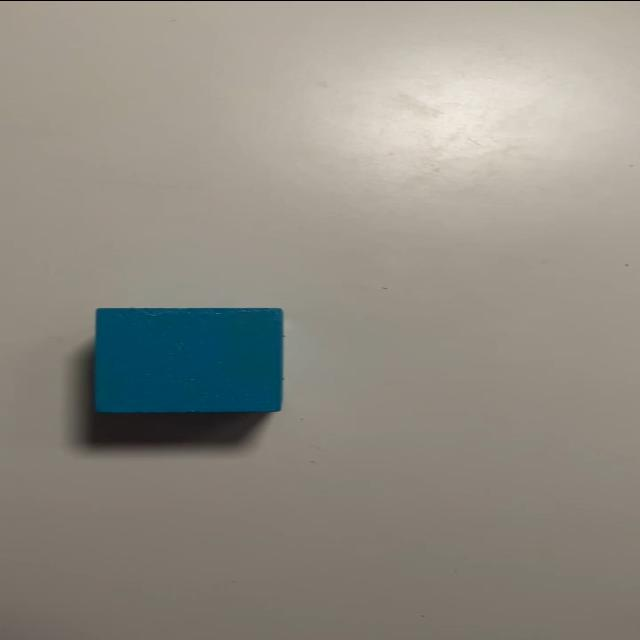blue_block: (99, 308, 277, 411)
